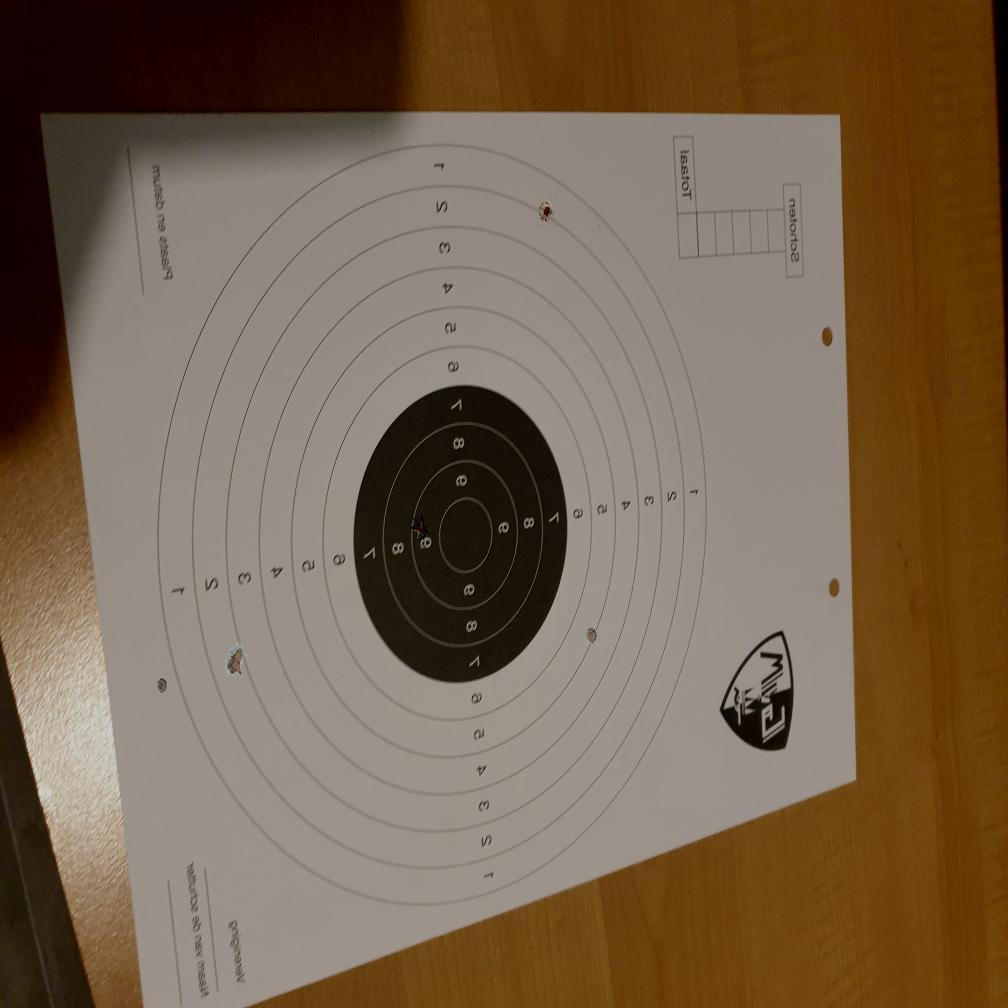0: (154, 673, 170, 697)
2: (536, 200, 556, 224), (224, 661, 244, 680)
3: (226, 642, 249, 661)
5: (585, 625, 599, 647)
9: (411, 514, 429, 540)
Target: (156, 139, 706, 908)
black_contour: (353, 381, 568, 685)
